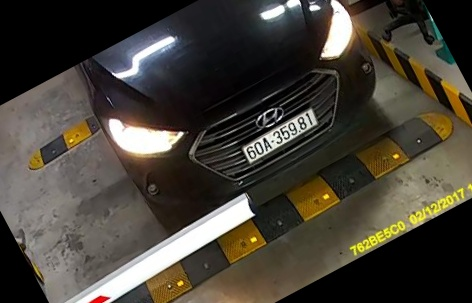plate: (239, 107, 334, 171)
